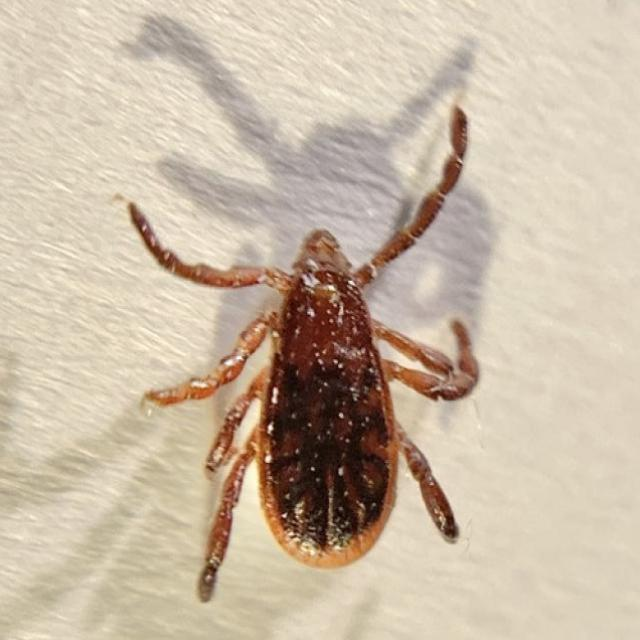Rhipicephalus Sanguineus-M: (127, 109, 481, 605)
